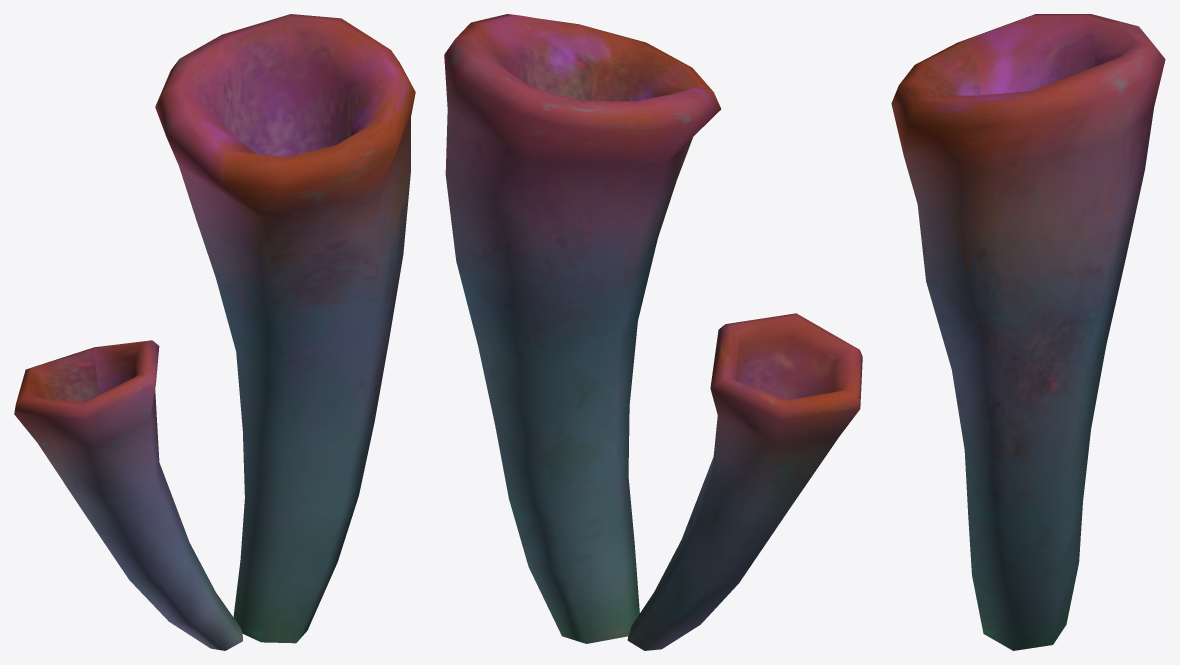
The model's file is Sce_Aquarium_Hawaii01_SeaAnemone14_a.FBX.
3 views of the same model, side by side, from view 1: azimuth 30°, elevation 25°; view 2: azimuth 150°, elevation 25°; view 3: azimuth 270°, elevation 25° (orthographic). The views are drawn at different scales.
Visible parts, largest first — view 1: Sce_Aquarium_Hawaii01_SeaAnemone14_a; view 2: Sce_Aquarium_Hawaii01_SeaAnemone14_a; view 3: Sce_Aquarium_Hawaii01_SeaAnemone14_a.
Part boxes in pixels (x1,y1,x2,y2): Sce_Aquarium_Hawaii01_SeaAnemone14_a: (14,14,415,650); Sce_Aquarium_Hawaii01_SeaAnemone14_a: (444,14,862,650); Sce_Aquarium_Hawaii01_SeaAnemone14_a: (891,14,1165,650).
Bounding box in the file's own units: 0.4698 × 0.667 × 0.2709.
